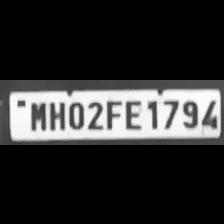0: (65, 97, 84, 128)
1: (144, 97, 160, 129)
2: (84, 97, 104, 129)
4: (199, 96, 219, 128)
7: (158, 97, 178, 129)
9: (177, 97, 199, 129)
E: (122, 96, 144, 130)
F: (102, 97, 122, 129)
H: (48, 98, 64, 130)
M: (27, 98, 47, 130)
